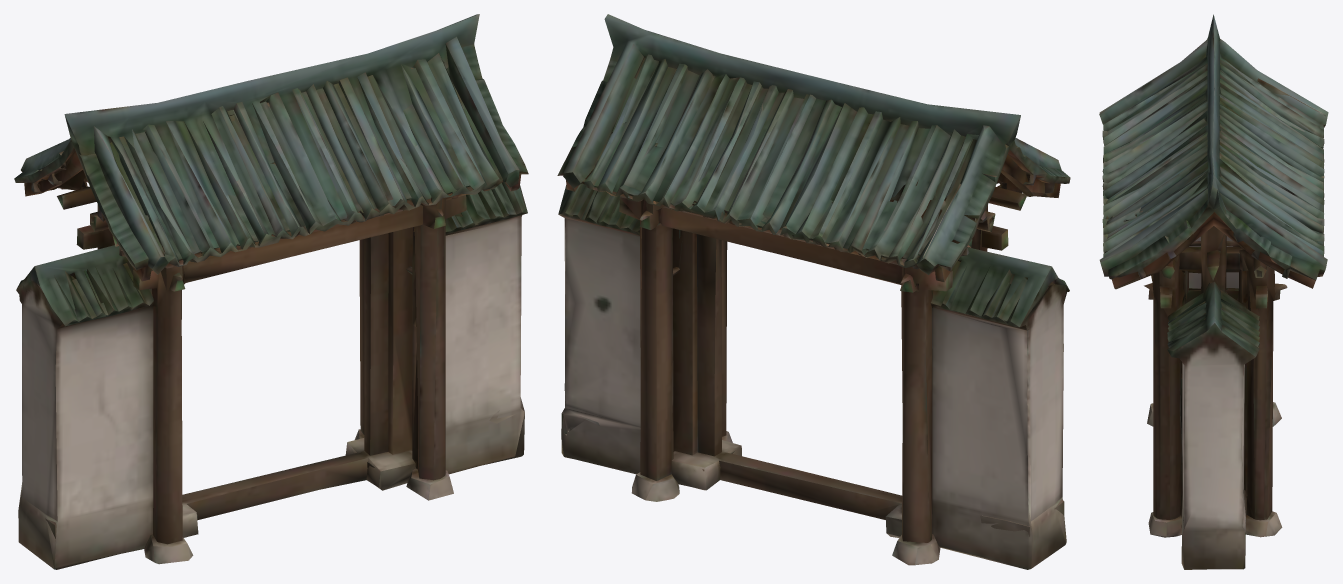
File: ARCH-008.glb
3 renders of one model, left to right at view 1: azimuth 30°, elevation 25°; view 2: azimuth 150°, elevation 25°; view 3: azimuth 270°, elevation 25°, orthographic. The views are drawn at different scales.
Parts seen in each view (by area): view 1: world; view 2: world; view 3: world.
Boxes of the visible parts, x1,y1,x2,y2 form: world: [14, 14, 528, 569]; world: [557, 14, 1070, 569]; world: [1099, 14, 1328, 569].
Size of the model in its own units: 4.5 by 3.96 by 2.2.
1 material, 1 textured.
